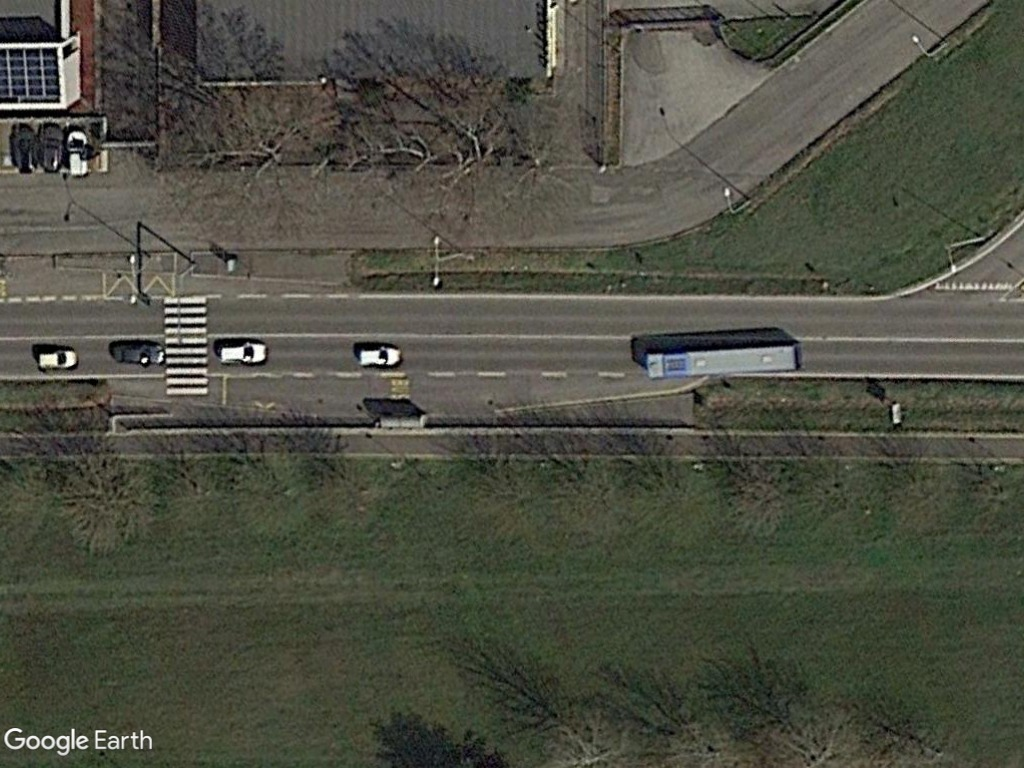bus: (641, 337, 808, 386)
car: (107, 337, 169, 369), (63, 126, 93, 184), (351, 341, 410, 370), (214, 338, 271, 368), (32, 347, 86, 376)
